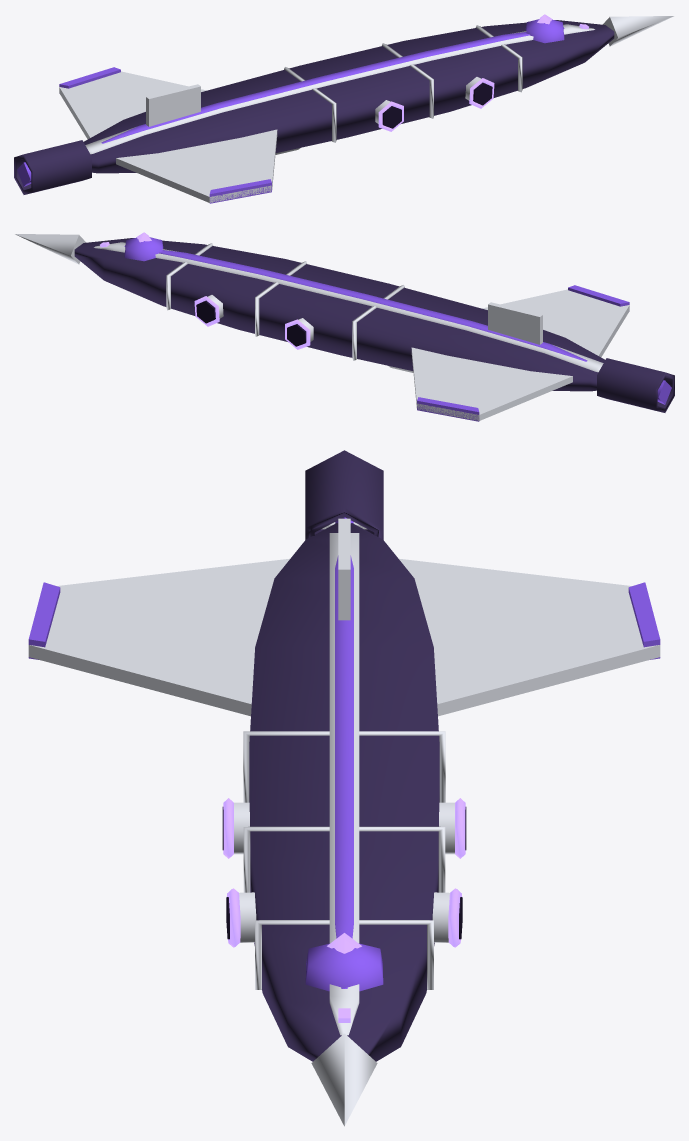
The model's file is verger-hadron.glb.
3 views of the same model, one above another, from view 1: azimuth 30°, elevation 25°; view 2: azimuth 150°, elevation 25°; view 3: azimuth 270°, elevation 25° (orthographic). The views are drawn at different scales.
Parts seen in each view (by area): view 1: blade_hull, guard_wing_s, guard_wing_p, drive_duct, blade_spine, spine_inlay, dorsal_fin, bow_prism, guard_edge_s, listening_dome, guard_edge_p, pressure_rib_0 (+4 smaller); view 2: blade_hull, guard_wing_p, guard_wing_s, drive_duct, blade_spine, spine_inlay, dorsal_fin, bow_prism, guard_edge_p, listening_dome, guard_edge_s, pressure_rib_0 (+4 smaller); view 3: blade_hull, guard_wing_s, guard_wing_p, spine_inlay, blade_spine, drive_duct, bow_prism, listening_dome, pressure_rib_1, pressure_rib_0, pressure_rib_2, dorsal_fin (+2 smaller).
Boxes of the visible parts, x1,y1,x2,y2 form: blade_hull: (83,20,614,173); guard_wing_s: (116,129,277,202); guard_wing_p: (59,71,206,139); drive_duct: (14,140,91,194); blade_spine: (85,24,594,154); spine_inlay: (101,28,564,143); dorsal_fin: (146,84,200,126); bow_prism: (603,16,673,46); guard_edge_s: (209,179,271,203); listening_dome: (525,19,564,43); guard_edge_p: (59,67,120,88); pressure_rib_0: (284,67,336,142); blade_hull: (74,238,605,391); guard_wing_p: (411,347,572,420); guard_wing_s: (482,289,629,357); drive_duct: (597,358,674,412); blade_spine: (94,242,603,372); spine_inlay: (124,246,587,361); dorsal_fin: (488,302,542,344); bow_prism: (15,234,85,264); guard_edge_p: (417,397,479,421); listening_dome: (124,237,163,261); guard_edge_s: (568,285,629,306); pressure_rib_0: (352,285,404,360); blade_hull: (249,523,439,1061); guard_wing_s: (28,558,289,716); guard_wing_p: (399,558,660,716); spine_inlay: (335,555,353,988); blade_spine: (329,533,359,1035); drive_duct: (305,450,383,539); bow_prism: (311,1033,377,1126); listening_dome: (305,943,383,991); pressure_rib_1: (243,826,445,892); pressure_rib_0: (243,731,445,802); pressure_rib_2: (255,920,433,989); dorsal_fin: (338,518,350,620).
Size of the model in its own units: 100 by 11.79 by 42.
